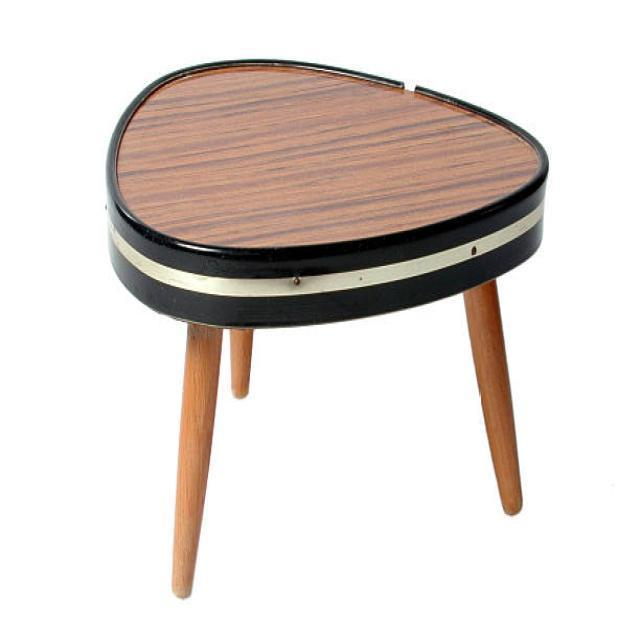table: (105, 56, 550, 600)
